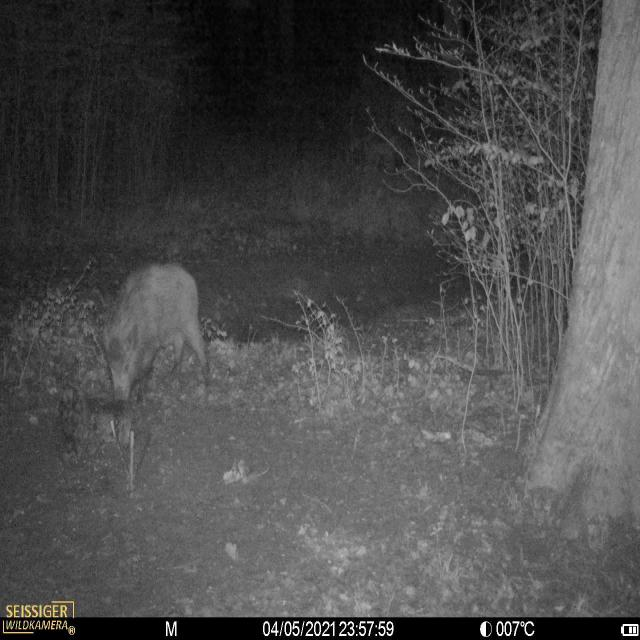wild boar: (96, 255, 215, 408)
